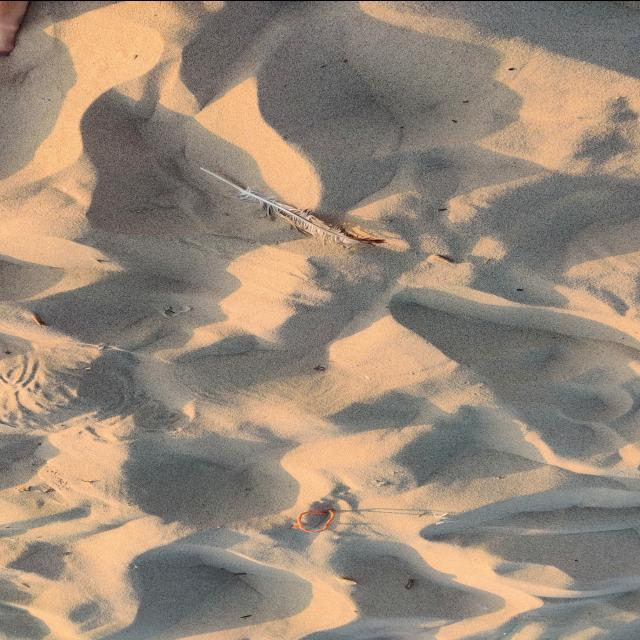Rope - strings: (292, 509, 336, 532)
